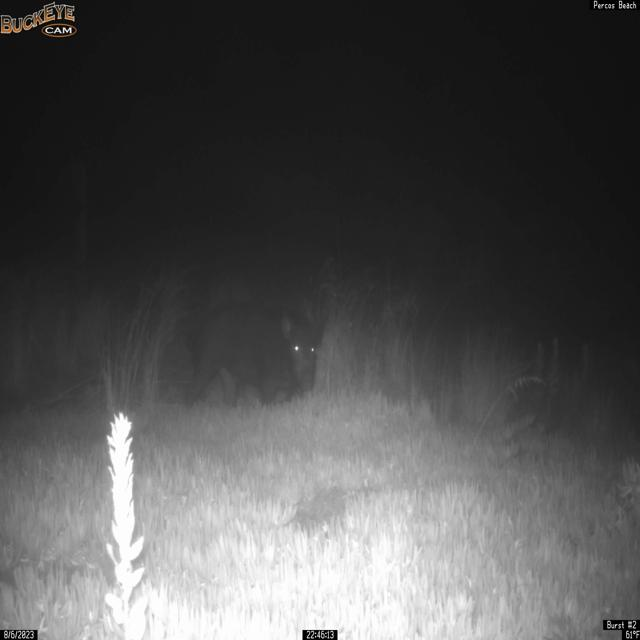pig: (183, 294, 332, 411)
